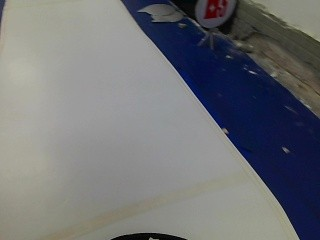battery: (199, 0, 232, 32)
